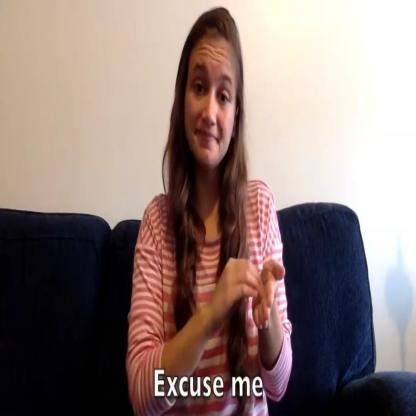ExcuseMe: (207, 236, 291, 343)
